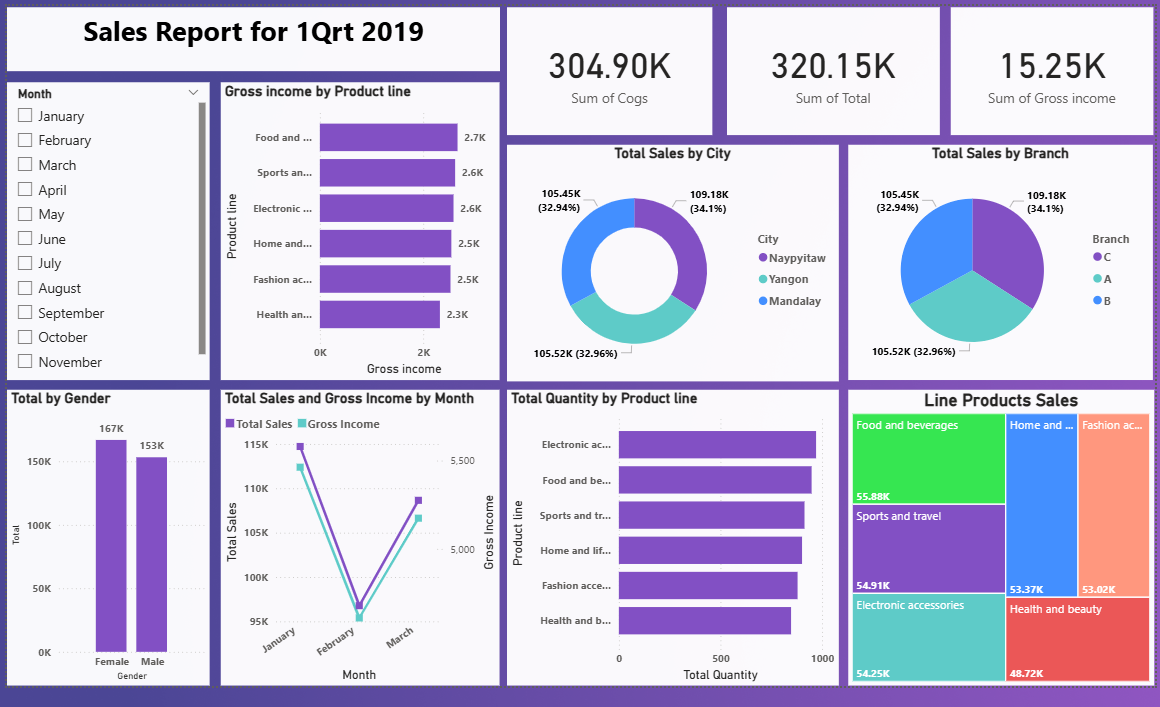

This screenshot's page, from the dashboard's own definition file:
{"tool":"powerbi","page":{"name":"Page 1","canvas":[1350,800],"ordinal":0},"visuals":[{"type":"card","fields":{"Values":["Sum(supermarket_sales - Sheet1.Gross income)"]},"box":[1110,1.7,238.3,150],"z":0},{"type":"card","fields":{"Values":["Sum(supermarket_sales - Sheet1.Total)"]},"box":[846.7,1.7,250,150],"z":1000},{"type":"card","fields":{"Values":["Sum(supermarket_sales - Sheet1.Cogs)"]},"box":[588.3,1.7,241.7,150],"z":2000},{"type":"pieChart","fields":{"Category":["supermarket_sales - Sheet1.Branch"],"Y":["Sum(supermarket_sales - Sheet1.Total)"]},"box":[990,163.3,358.3,276.7],"z":3000},{"type":"donutChart","fields":{"Category":["supermarket_sales - Sheet1.City"],"Y":["Sum(supermarket_sales - Sheet1.Total)"]},"box":[588.3,163.3,390,278.3],"z":4000},{"type":"treemap","title":"Line Products Sales","fields":{"Group":["supermarket_sales - Sheet1.Product line"],"Values":["Sum(supermarket_sales - Sheet1.Total)"]},"box":[990,451.7,360,348.3],"z":5000},{"type":"clusteredColumnChart","fields":{"Category":["supermarket_sales - Sheet1.Gender"],"Y":["Sum(supermarket_sales - Sheet1.Total)"]},"box":[0,451.7,238.3,348.3],"z":6000},{"type":"slicer","fields":{"Values":["supermarket_sales - Sheet1.Date.Variation.Date Hierarchy.Month"]},"box":[0,90,238.3,350],"z":8000},{"type":"lineChart","fields":{"Category":["supermarket_sales - Sheet1.Date.Variation.Date Hierarchy.Month"],"Y":["Sum(supermarket_sales - Sheet1.Total)"],"Y2":["Sum(supermarket_sales - Sheet1.Gross income)"]},"box":[251.7,451.7,328.3,348.3],"z":9000},{"type":"clusteredBarChart","fields":{"Category":["supermarket_sales - Sheet1.Product line"],"Y":["Sum(supermarket_sales - Sheet1.Gross income)"]},"box":[251.7,90,328.3,350],"z":10000},{"type":"clusteredBarChart","fields":{"Category":["supermarket_sales - Sheet1.Product line"],"Y":["Sum(supermarket_sales - Sheet1.Quantity)"]},"box":[588.3,451.7,390,348.3],"z":10001},{"type":"textbox","box":[0,1.7,580,75],"z":10002}]}

Visuals, with their boxes in screenshot pixels (x1, y1, x2, y2), scaled from the page's 1350x800 canvas onto the 1160x707 screenshot:
card - Sum(supermarket_sales - Sheet1.Gross income): 954:2:1159:134
card - Sum(supermarket_sales - Sheet1.Total): 728:2:942:134
card - Sum(supermarket_sales - Sheet1.Cogs): 506:2:713:134
pieChart - supermarket_sales - Sheet1.Branch x Sum(supermarket_sales - Sheet1.Total): 851:144:1159:389
donutChart - supermarket_sales - Sheet1.City x Sum(supermarket_sales - Sheet1.Total): 506:144:841:390
"Line Products Sales" treemap: 851:399:1159:706
clusteredColumnChart - supermarket_sales - Sheet1.Gender x Sum(supermarket_sales - Sheet1.Total): 0:399:205:706
slicer - supermarket_sales - Sheet1.Date.Variation.Date Hierarchy.Month: 0:80:205:389
lineChart - supermarket_sales - Sheet1.Date.Variation.Date Hierarchy.Month x Sum(supermarket_sales - Sheet1.Total): 216:399:498:706
clusteredBarChart - supermarket_sales - Sheet1.Product line x Sum(supermarket_sales - Sheet1.Gross income): 216:80:498:389
clusteredBarChart - supermarket_sales - Sheet1.Product line x Sum(supermarket_sales - Sheet1.Quantity): 506:399:841:706
textbox: 0:2:498:68
